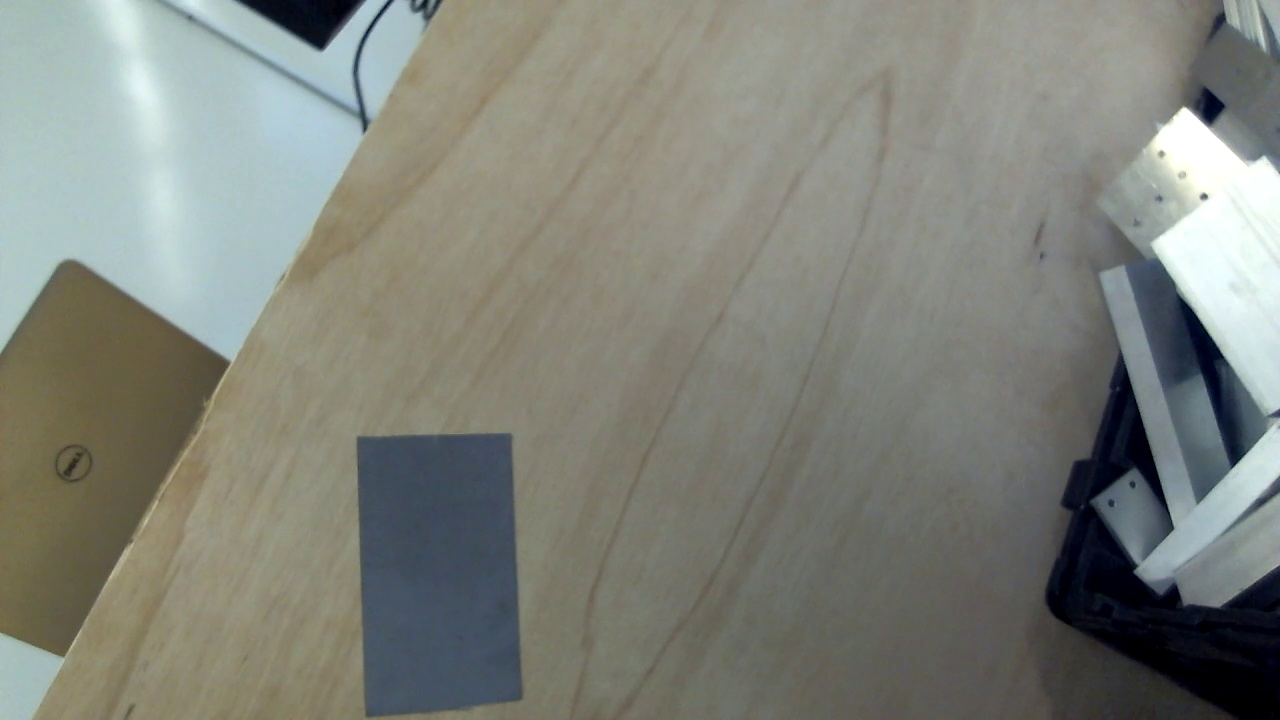Tape: (354, 436, 522, 715)
